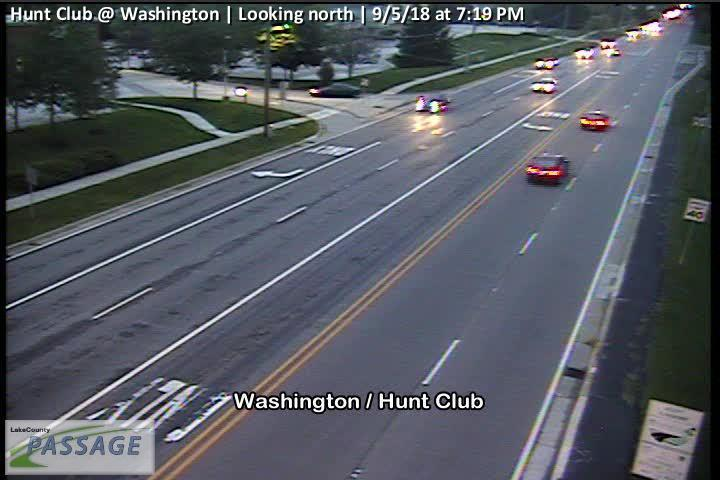Sedan: (526, 153, 569, 184), (308, 84, 362, 97), (579, 110, 611, 129)
